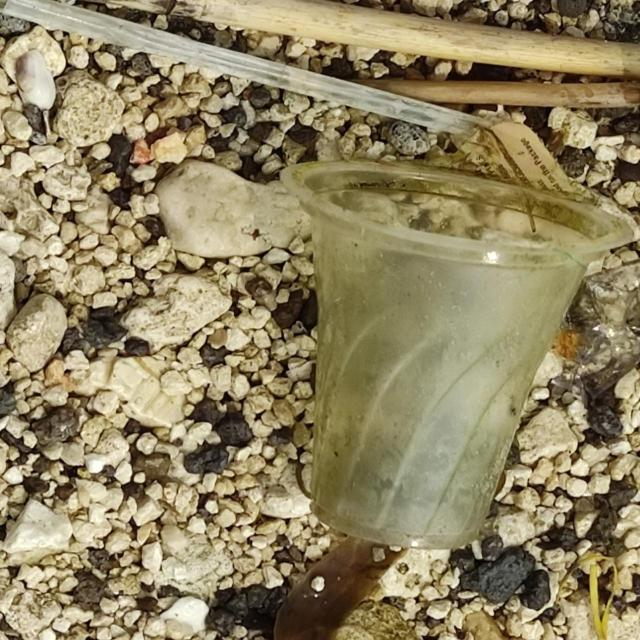plastic_waste: (284, 158, 636, 540), (0, 0, 492, 139)
